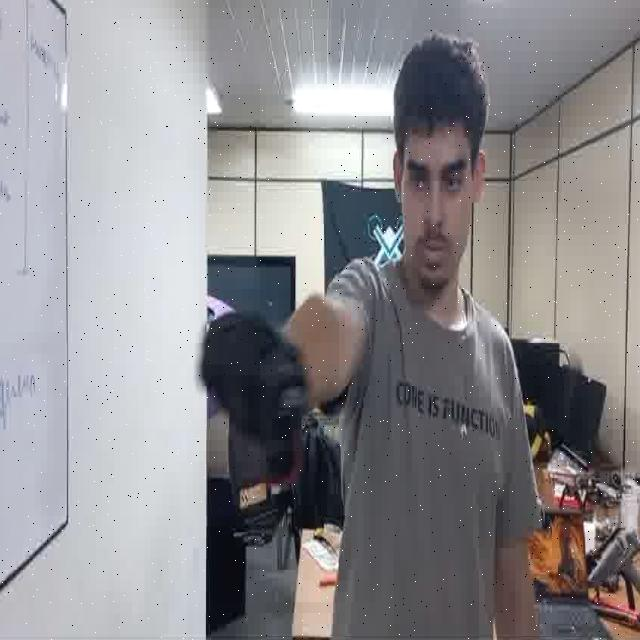Gloves: (199, 302, 308, 474)
